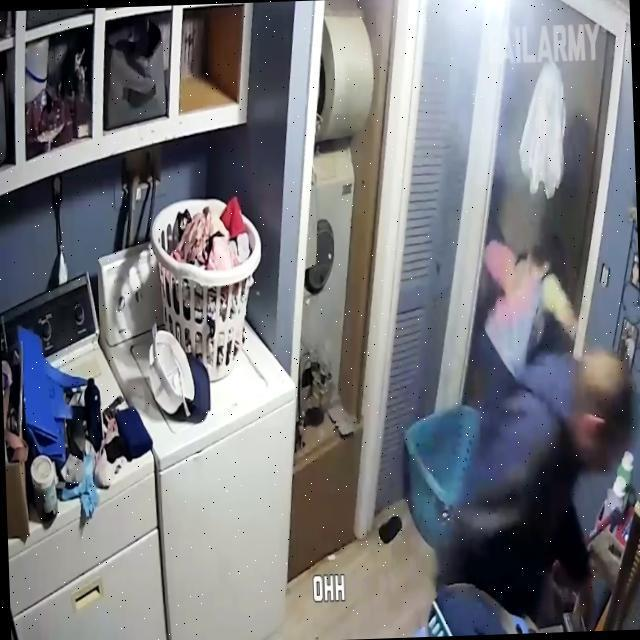person: (434, 344, 640, 636)
